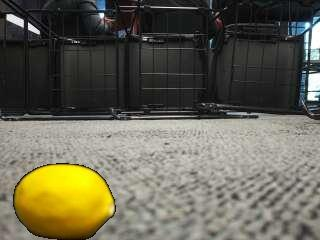lemon: (16, 163, 116, 238)
